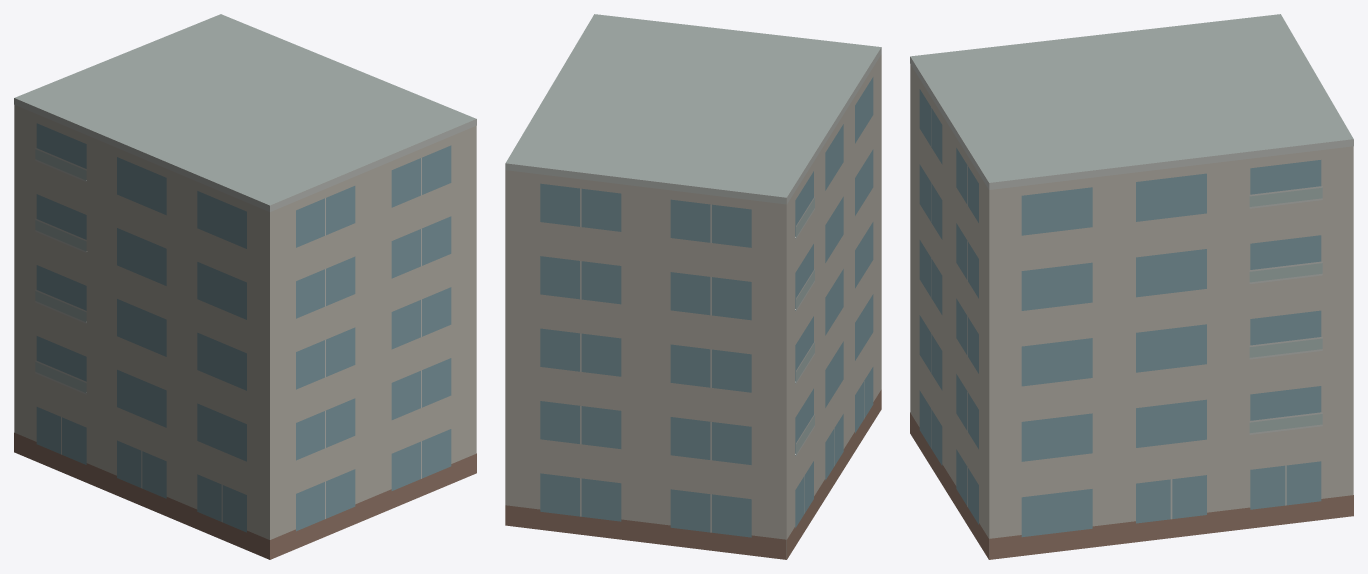
Rendered from survey-upis-32869546.glb.
3 renders of one model, left to right at view 1: azimuth 30°, elevation 25°; view 2: azimuth 150°, elevation 25°; view 3: azimuth 270°, elevation 25°, orthographic. The views are drawn at different scales.
Parts seen in each view (by area): view 1: survey-upis-32869546.tmp; view 2: survey-upis-32869546.tmp; view 3: survey-upis-32869546.tmp.
Part boxes in pixels (<box>): survey-upis-32869546.tmp: <box>14,14,476,559</box>; survey-upis-32869546.tmp: <box>505,14,881,559</box>; survey-upis-32869546.tmp: <box>910,14,1353,559</box>.
Bounding box in the file's own units: 12.51 × 13 × 13.88.
